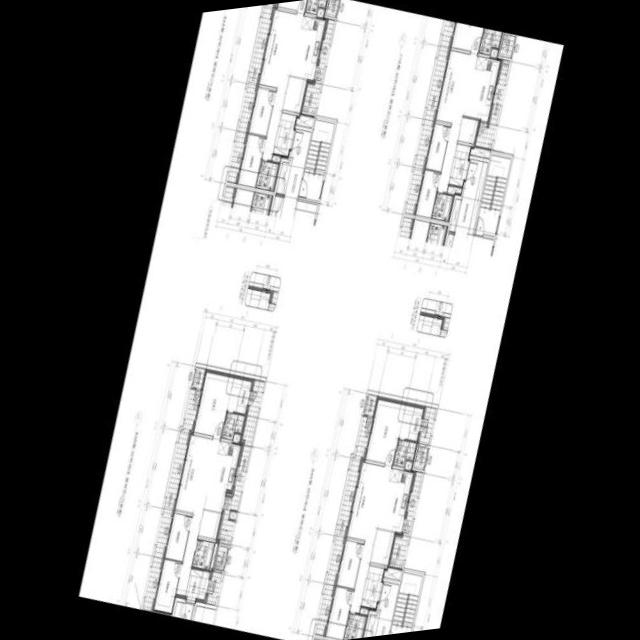background: (77, 0, 563, 640)
space_balconi: (141, 388, 200, 610), (314, 416, 371, 635), (404, 19, 454, 213), (226, 4, 272, 183), (217, 379, 263, 544), (388, 471, 421, 568), (300, 19, 333, 115), (474, 59, 508, 148), (418, 406, 435, 445), (205, 571, 221, 604)
space_bedroom: (363, 395, 405, 464), (193, 369, 233, 437), (152, 559, 180, 615), (235, 133, 264, 187), (323, 586, 352, 639), (334, 539, 362, 588), (246, 87, 274, 135), (423, 122, 449, 171), (164, 512, 190, 561), (413, 169, 439, 217), (449, 22, 482, 52), (275, 0, 306, 11)
space_dressroom: (397, 401, 424, 441), (226, 374, 251, 413)
space_elevator_hall: (454, 159, 482, 234), (283, 129, 310, 200), (374, 581, 398, 636), (178, 602, 194, 620)
space_front: (271, 112, 296, 156), (359, 565, 384, 608), (447, 143, 470, 186), (184, 568, 202, 603)
space_kitchen: (202, 440, 239, 512), (461, 55, 500, 120), (289, 15, 326, 80), (377, 468, 413, 532)
space_living_room: (174, 434, 217, 598), (344, 461, 390, 612), (257, 8, 302, 160), (433, 49, 474, 192)
space_other: (467, 161, 487, 235), (369, 529, 395, 566), (281, 76, 307, 113), (197, 510, 221, 539), (456, 117, 479, 144), (275, 157, 291, 194), (448, 198, 461, 231), (364, 609, 379, 637), (196, 571, 209, 602), (498, 33, 514, 57), (412, 446, 426, 469), (213, 545, 226, 569), (208, 543, 217, 570), (382, 567, 400, 580), (294, 115, 313, 127), (325, 0, 338, 17), (469, 147, 489, 158), (446, 185, 460, 194), (403, 460, 411, 470), (489, 48, 497, 57), (315, 8, 323, 17), (358, 607, 367, 614), (232, 433, 239, 442), (228, 511, 235, 519), (271, 155, 279, 162)
space_outdoor_room: (363, 394, 376, 415), (191, 367, 204, 388)
space_staircase: (474, 154, 509, 236), (298, 119, 333, 200), (389, 572, 421, 634)
space_toilet: (191, 539, 213, 570), (255, 160, 277, 191), (392, 439, 415, 467), (342, 612, 365, 640), (430, 192, 452, 221), (220, 412, 243, 439), (478, 28, 500, 54), (304, 0, 325, 14)
